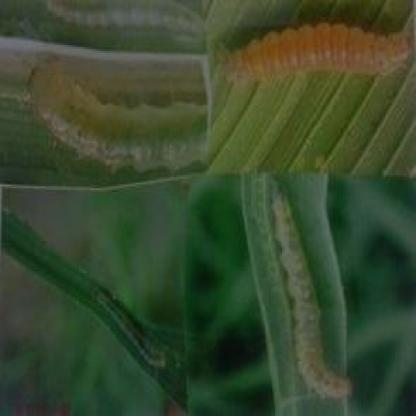leaf-folder: (248, 183, 364, 404), (26, 54, 212, 178), (221, 13, 416, 97), (84, 276, 175, 374), (37, 0, 214, 48)
